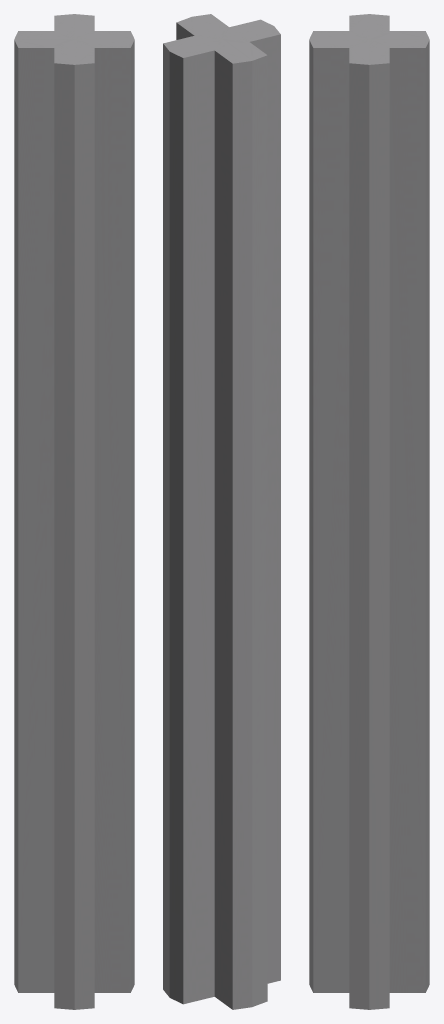
Rendered from cross_axle_5M.dae.
3 renders of one model, left to right at view 1: azimuth 90°, elevation 25°; view 2: azimuth 210°, elevation 25°; view 3: azimuth 270°, elevation 25°, orthographic.
Parts seen in each view (by area): view 1: node; view 2: node; view 3: node.
Part boxes in pixels (left/top/right/bottom): node: left=14, top=14, right=134, bottom=1009; node: left=163, top=14, right=280, bottom=1009; node: left=309, top=14, right=429, bottom=1009.
Bounding box in the file's own units: 11.5 × 99.5 × 11.5.
Materials: 1 (1 with a texture image).
